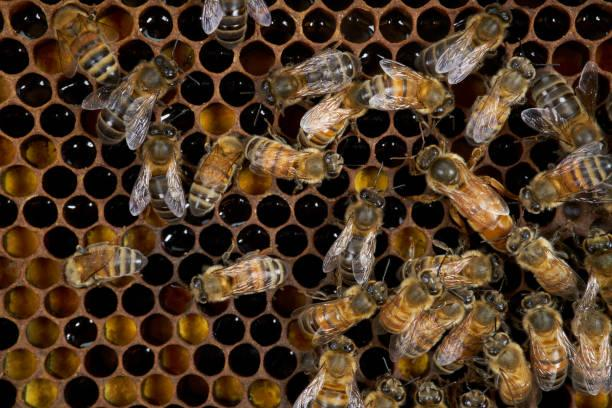Queen-Bee: (413, 146, 514, 251)
worker-bee: (82, 54, 179, 149), (416, 3, 511, 84), (519, 142, 611, 213), (466, 57, 535, 145), (433, 290, 506, 373), (261, 48, 360, 109), (323, 187, 384, 285), (389, 289, 473, 360), (294, 281, 387, 344), (353, 59, 454, 117), (506, 226, 583, 299), (129, 122, 185, 222), (396, 240, 503, 292), (189, 251, 288, 303), (521, 292, 572, 390), (245, 136, 343, 184), (188, 133, 243, 216), (297, 83, 366, 149), (377, 271, 441, 333), (483, 331, 535, 406)
